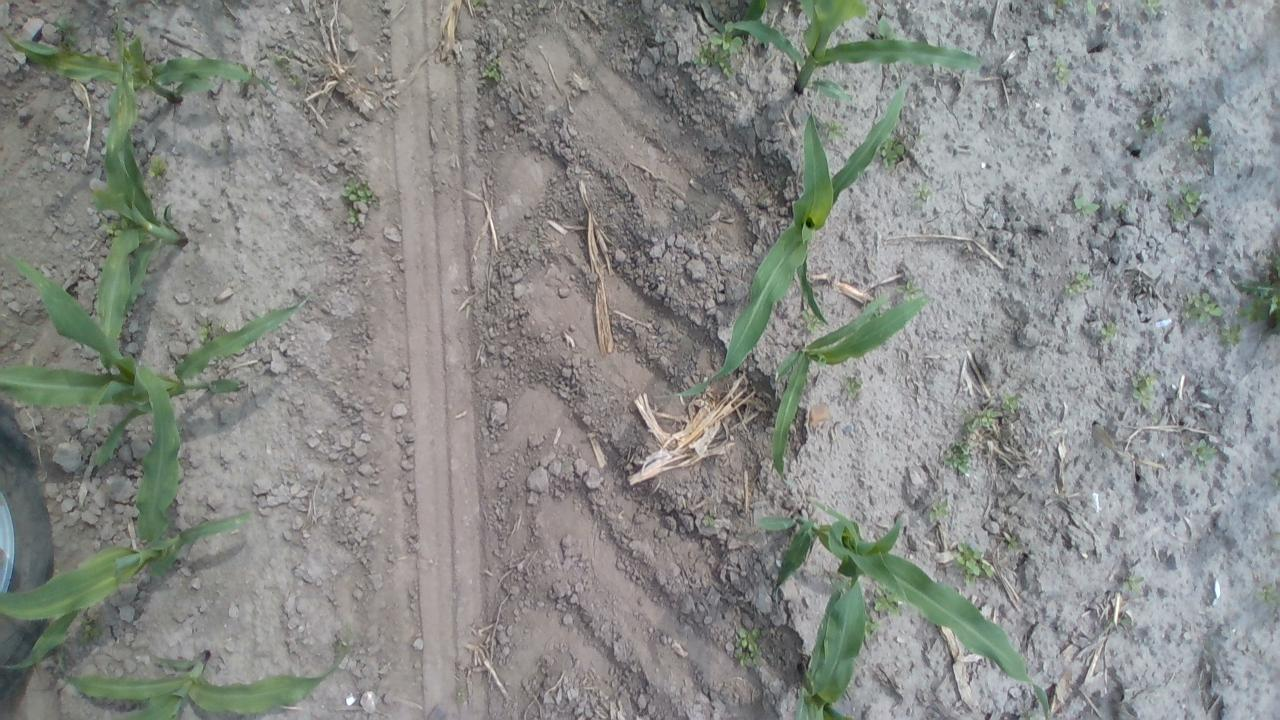Maize: (0, 354, 254, 684), (666, 80, 906, 388), (760, 498, 1056, 720), (0, 260, 317, 462), (90, 38, 202, 390), (764, 278, 936, 487), (714, 0, 994, 102), (56, 636, 356, 720), (4, 22, 271, 112), (794, 538, 876, 718)
Weeds: (940, 399, 1010, 476), (693, 27, 748, 79), (1234, 272, 1278, 327), (951, 540, 994, 586), (1161, 184, 1202, 224), (341, 175, 379, 218), (1180, 290, 1224, 325), (733, 624, 765, 670), (868, 582, 905, 619), (1129, 368, 1159, 413), (961, 406, 1009, 434), (876, 132, 908, 169), (816, 113, 850, 145), (77, 612, 106, 649), (1064, 268, 1094, 298), (1046, 56, 1074, 86), (1186, 438, 1216, 466), (1119, 571, 1148, 598), (1070, 193, 1100, 218), (1218, 322, 1244, 350), (1136, 111, 1168, 133), (840, 372, 864, 401), (101, 213, 129, 237), (1188, 127, 1213, 153), (927, 496, 952, 522), (1000, 389, 1023, 417), (860, 614, 884, 640), (1001, 532, 1026, 556), (195, 320, 220, 344), (146, 154, 169, 180), (801, 309, 824, 335), (895, 277, 923, 298), (1135, 0, 1166, 18), (270, 49, 292, 74), (483, 57, 504, 82), (1100, 317, 1120, 342), (1257, 581, 1277, 605), (338, 628, 354, 655), (916, 182, 934, 206), (453, 682, 470, 706), (1112, 196, 1130, 218), (701, 508, 720, 528), (1051, 0, 1074, 12)
